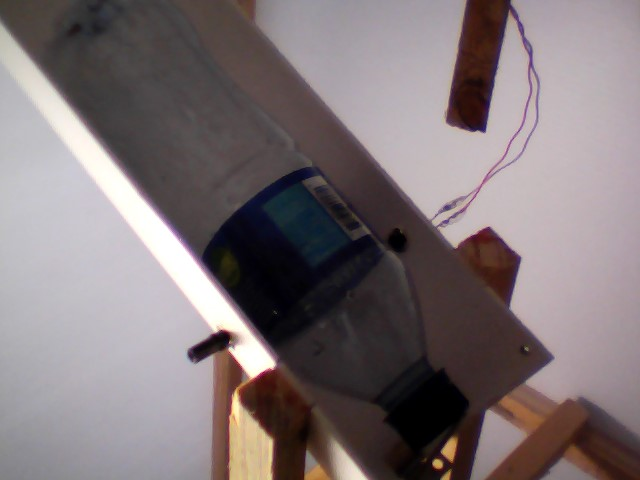plastico: (37, 1, 476, 458)
